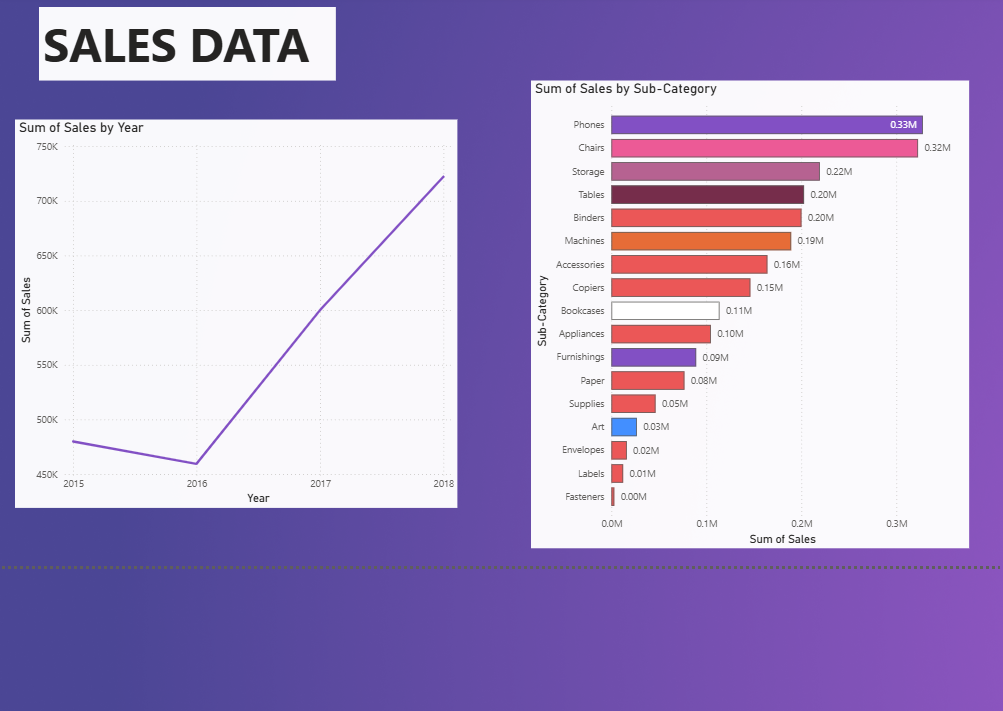

The page's visual inventory and layout, read from the dashboard file:
{"tool":"powerbi","page":{"name":"Page 1","canvas":[1280,720],"ordinal":0},"visuals":[{"type":"lineChart","fields":{"Category":["sample_superstore.Order Date.Variation.Date Hierarchy.Year"],"Y":["Sum(sample_superstore.Sales)"]},"box":[26.5,156.9,557.5,489.5],"z":0},{"type":"textbox","box":[56.7,15.1,374.2,92.6],"z":1},{"type":"barChart","fields":{"Y":["Sum(sample_superstore.Sales)"],"Category":["sample_superstore.Sub-Category"]},"box":[676.5,107.7,551.8,589.6],"z":2}]}

Visuals, with their boxes in screenshot pixels (x1, y1, x2, y2):
lineChart - sample_superstore.Order Date.Variation.Date Hierarchy.Year x Sum(sample_superstore.Sales): crop(8, 115, 455, 507)
textbox: crop(32, 2, 332, 76)
barChart - Sum(sample_superstore.Sales) x sample_superstore.Sub-Category: crop(529, 76, 971, 548)
